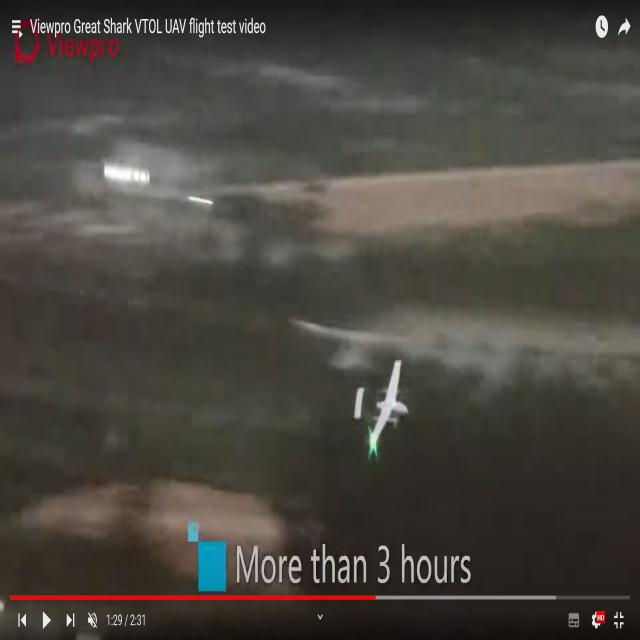iha: (354, 391, 409, 416)
